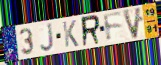3: (19, 27, 35, 55)
F: (102, 11, 124, 44)
J: (39, 22, 56, 53)
K: (62, 19, 80, 48)
R: (80, 14, 102, 49)
V: (121, 6, 143, 41)
